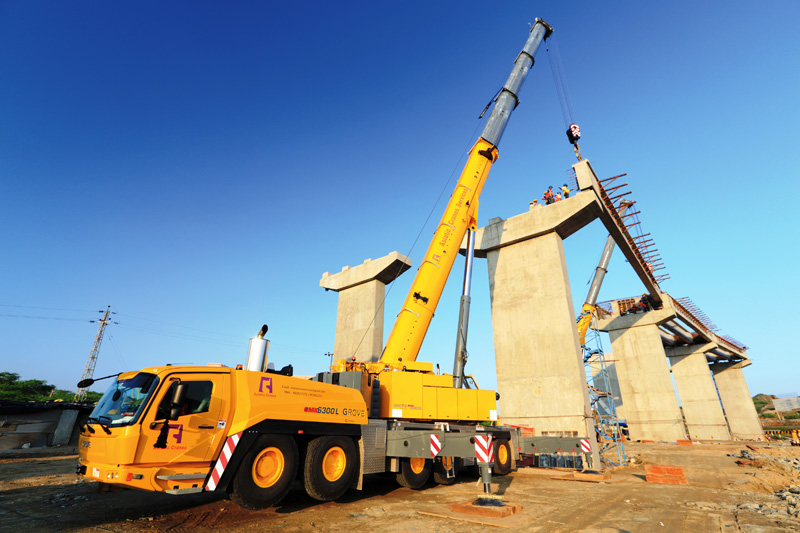crane: (72, 11, 569, 511)
